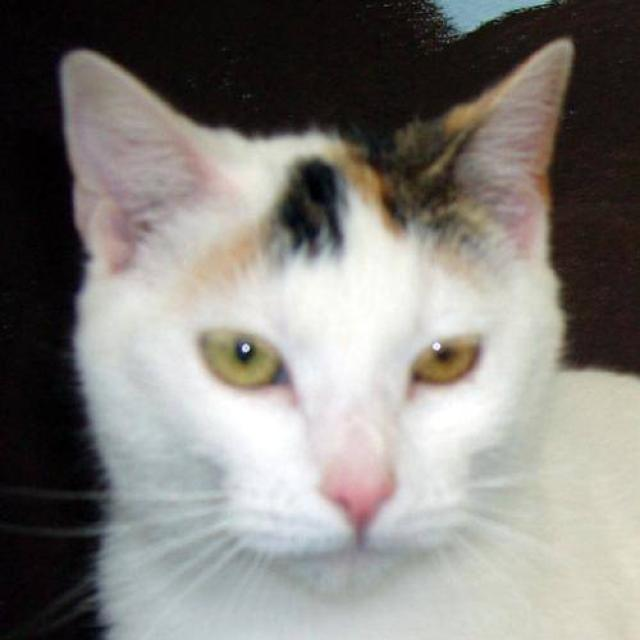cat: (14, 32, 639, 638)
